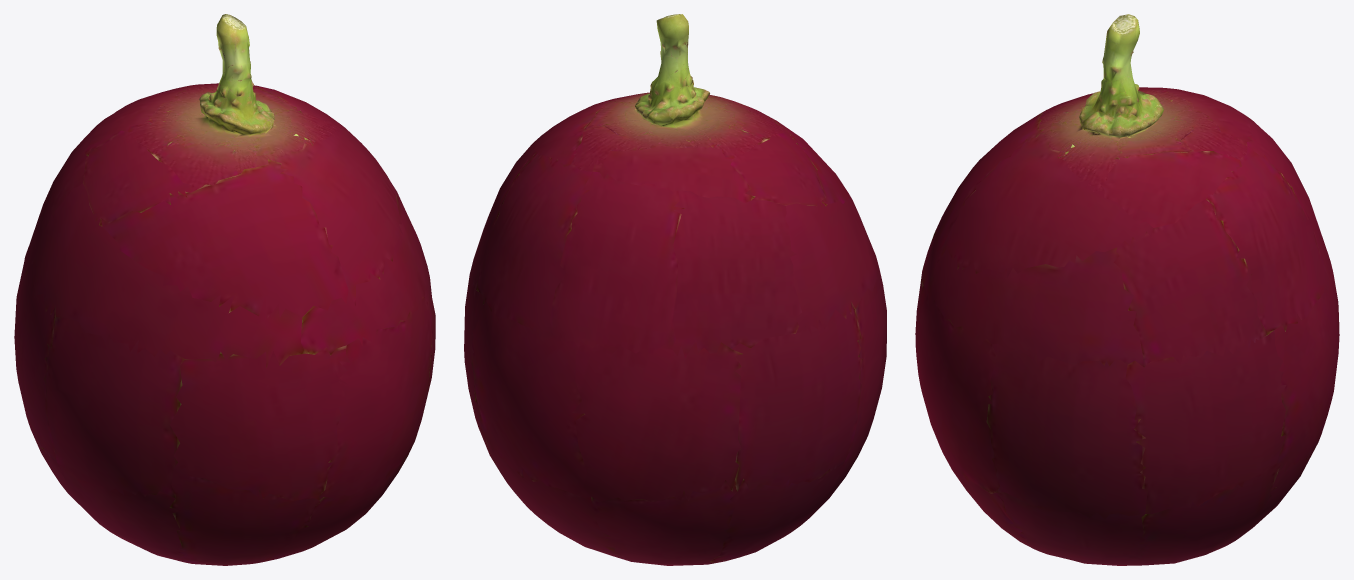
Rendered from grape.glb.
The picture shows the model from 3 angles, left to right: view 1: azimuth 30°, elevation 25°; view 2: azimuth 150°, elevation 25°; view 3: azimuth 270°, elevation 25°; orthographic projection.
Size of the model in its own units: 1.42 by 1.9 by 1.43.
1 material, 1 textured.
